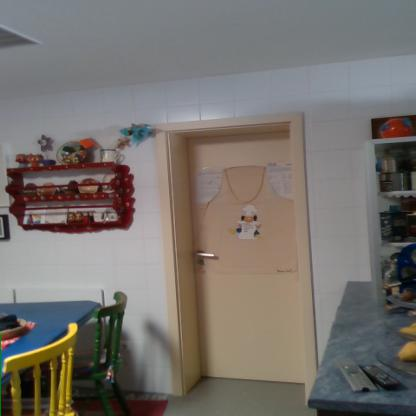closed: (157, 108, 330, 389)
open: (0, 283, 137, 415)
